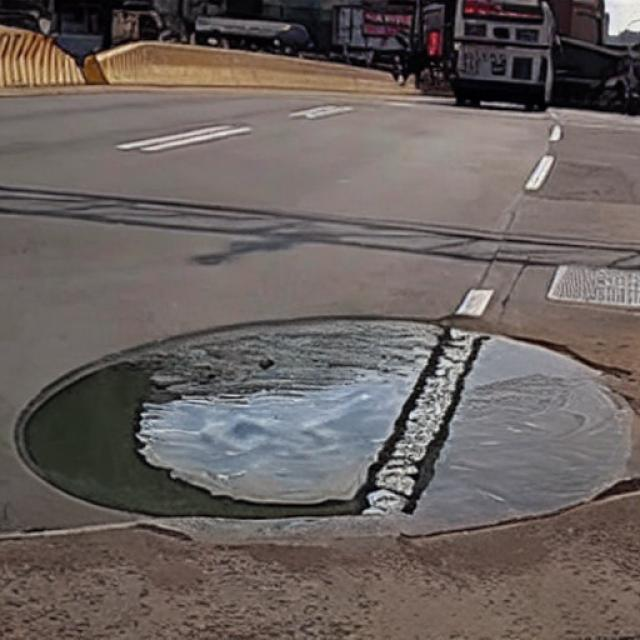puddle: (23, 318, 633, 526)
